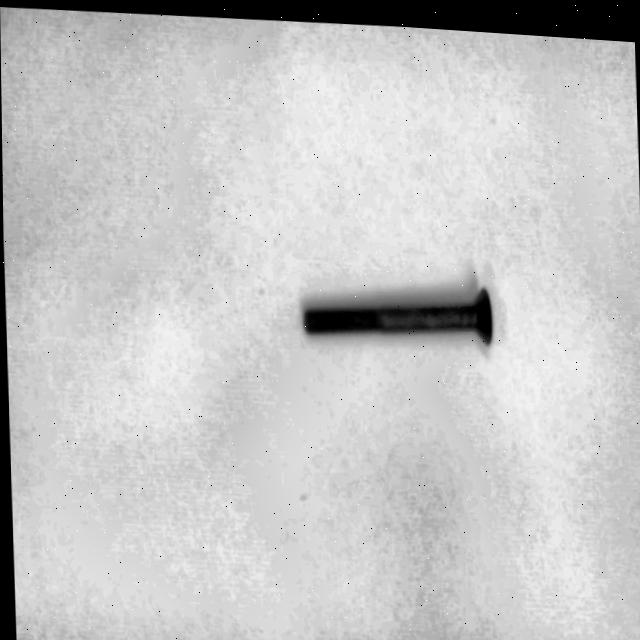Flat head socket screw: (297, 269, 495, 347)
